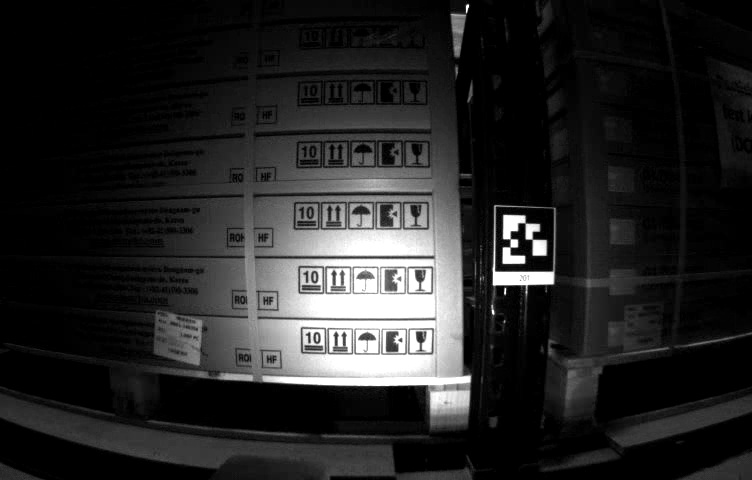True Barcode: (154, 309, 203, 367), (625, 309, 661, 349)
